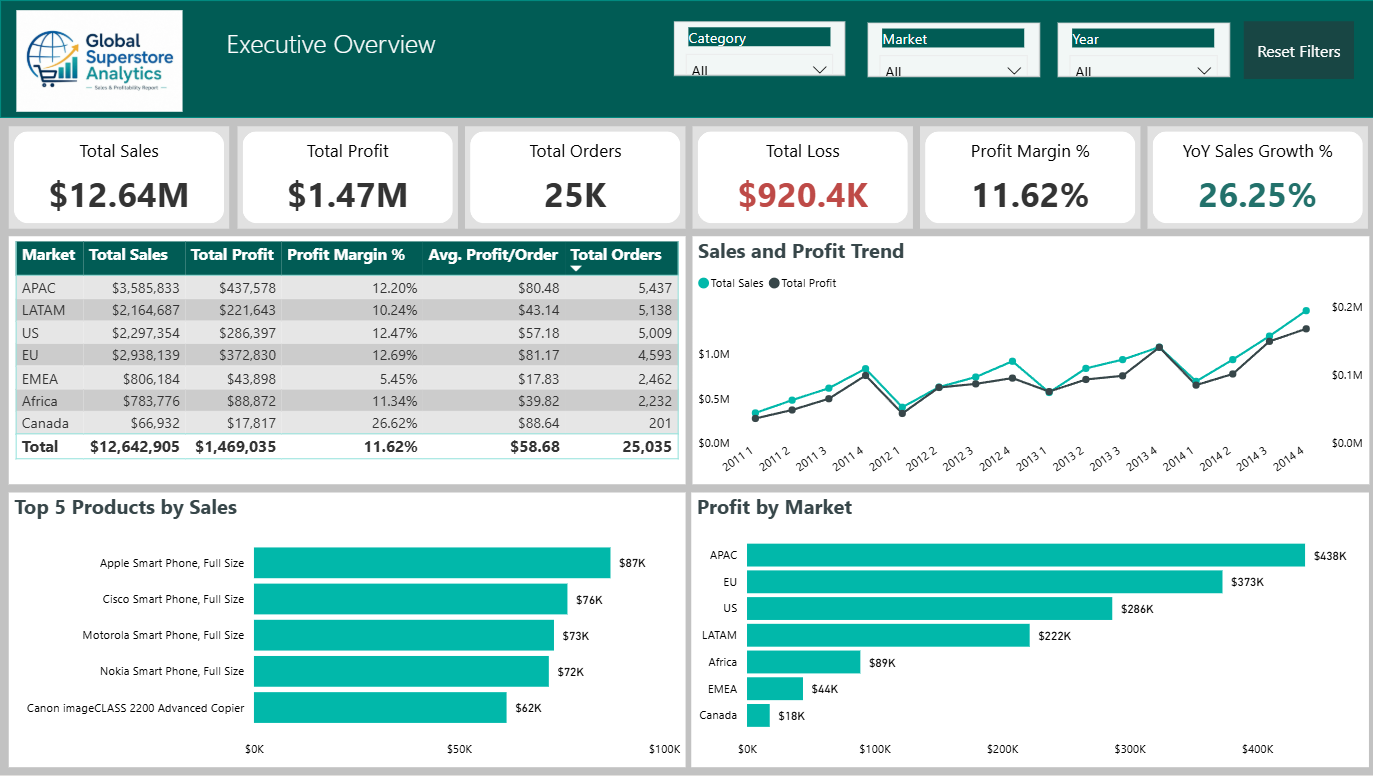

This screenshot's page, from the dashboard's own definition file:
{"tool":"powerbi","page":{"name":"Executive Overview","canvas":[1280,720],"ordinal":0},"visuals":[{"type":"shape","box":[0,0,1279.7,109.6],"z":0},{"type":"cardVisual","fields":{"Data":["Measures (2).Total Sales"]},"box":[8.6,117,205,95],"z":1000},{"type":"cardVisual","fields":{"Data":["Measures (2).Total Profit"]},"box":[220.1,117,205,95],"z":2000},{"type":"cardVisual","fields":{"Data":["Measures (2).Profit Margin %"]},"box":[854.7,117,205,95],"z":3000},{"type":"cardVisual","fields":{"Data":["Measures (2).Loss Amount"]},"box":[643.2,117,205,95],"z":4000},{"type":"cardVisual","fields":{"Data":["Measures (2).Total Orders"]},"box":[431.7,117,205,95],"z":5000},{"type":"image","box":[0,4.3,184.7,104],"z":6000},{"type":"slicer","fields":{"Values":["DimDate.Year"]},"box":[982.1,20.9,159.7,50],"z":7000},{"type":"slicer","fields":{"Values":["DimProduct.Category"]},"box":[625.4,19.4,159,50],"z":8000},{"type":"slicer","fields":{"Values":["DimGeography.Market"]},"box":[806,20.9,159.7,50],"z":9000},{"type":"cardVisual","fields":{"Data":["Measures (2).YoY Sales Growth %"]},"box":[1066.3,117,205,95],"z":10000},{"type":"lineChart","title":"Sales and Profit Trend ","fields":{"Category":["DimDate.Date Hierarchy.Year","DimDate.Date Hierarchy.Quarter"],"Y":["Measures (2).Total Sales"],"Y2":["Measures (2).Total Profit"]},"box":[642.9,219.6,629,230.7],"z":11000},{"type":"tableEx","title":"Sales and Profit by Market","fields":{"Values":["DimGeography.Market","Measures (2).Total Sales","Measures (2).Total Profit","Measures (2).Profit Margin %","Measures (2).Average Profit per Order","Measures (2).Total Orders"]},"box":[7.6,219.6,629,230.7],"z":12000},{"type":"barChart","title":"Top 5 Products by Sales","fields":{"Category":["DimProduct.Product Name"],"Y":["Measures (2).Total Sales"]},"box":[7.6,458,629,255.4],"z":13000},{"type":"clusteredBarChart","title":"Profit by Market","fields":{"Category":["DimGeography.Market"],"Y":["Measures (2).Total Profit"]},"box":[642,458,629.5,255.2],"z":14000},{"type":"actionButton","box":[1155.7,20.2,102.4,53.4],"z":15000},{"type":"textbox","box":[185.3,18.7,246,68.5],"z":16000}]}

Visuals, with their boxes in screenshot pixels (x1, y1, x2, y2), scaled from the page's 1280x720 canvas onto the 1373x776 screenshot:
shape: (left=0, top=0, right=1372, bottom=118)
cardVisual - Measures (2).Total Sales: (left=9, top=126, right=229, bottom=228)
cardVisual - Measures (2).Total Profit: (left=236, top=126, right=456, bottom=228)
cardVisual - Measures (2).Profit Margin %: (left=917, top=126, right=1137, bottom=228)
cardVisual - Measures (2).Loss Amount: (left=690, top=126, right=910, bottom=228)
cardVisual - Measures (2).Total Orders: (left=463, top=126, right=683, bottom=228)
image: (left=0, top=5, right=198, bottom=117)
slicer - DimDate.Year: (left=1053, top=23, right=1225, bottom=76)
slicer - DimProduct.Category: (left=671, top=21, right=841, bottom=75)
slicer - DimGeography.Market: (left=865, top=23, right=1036, bottom=76)
cardVisual - Measures (2).YoY Sales Growth %: (left=1144, top=126, right=1364, bottom=228)
"Sales and Profit Trend " lineChart: (left=690, top=237, right=1364, bottom=485)
"Sales and Profit by Market" tableEx: (left=8, top=237, right=683, bottom=485)
"Top 5 Products by Sales" barChart: (left=8, top=494, right=683, bottom=769)
"Profit by Market" clusteredBarChart: (left=689, top=494, right=1364, bottom=769)
actionButton: (left=1240, top=22, right=1350, bottom=79)
textbox: (left=199, top=20, right=463, bottom=94)
